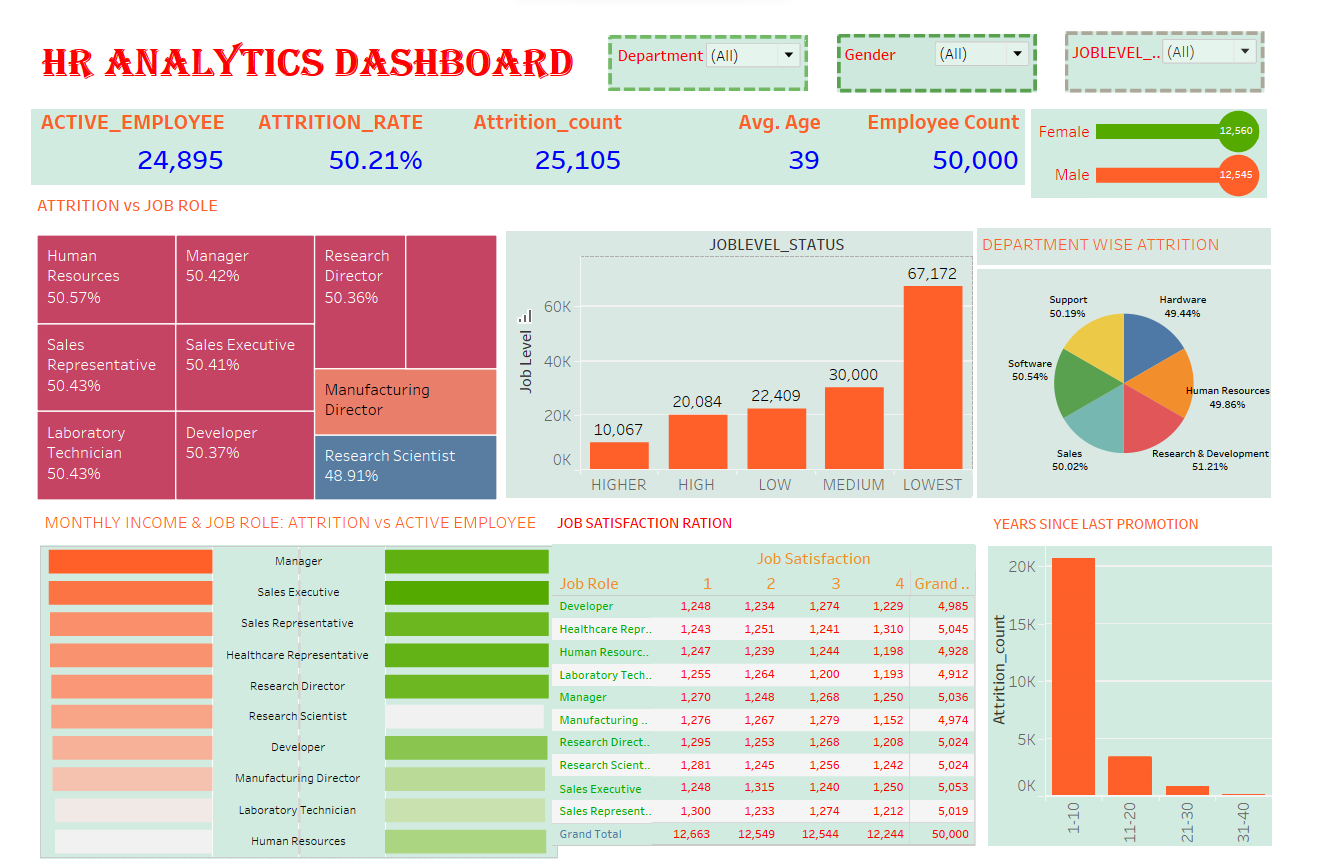

This screenshot's page, from the dashboard's own definition file:
{"tool":"powerbi","page":{"name":"1","canvas":[1280,720],"ordinal":0},"visuals":[{"type":"tableEx","title":"TOTAL EMPLOYEES","fields":{"Values":["HR1_Analyst.ATTRITION_RATE"]},"box":[466.3,108.5,232.2,102.5],"z":0,"group":"g1"},{"type":"clusteredColumnChart","title":"ACTIVE_EMPLOYEES and ATTRITION_COUNT by Department","fields":{"Category":["HR1_Analyst.Department"],"Y":["HR1_Analyst.ACTIVE_EMPLOYEES","HR1_Analyst.ATTRITION_COUNT"]},"box":[8.4,240,309.9,241.2],"z":0},{"type":"tableEx","title":"TOTAL EMPLOYEES","fields":{"Values":["HR1_Analyst.ACTIVE_EMPLOYEES"]},"box":[686.7,108.5,245.6,99.8],"z":1000,"group":"g1"},{"type":"clusteredBarChart","fields":{"Category":["HR1_Analyst.EducationField"],"Y":["HR1_Analyst.ACTIVE_EMPLOYEES"]},"box":[9.6,498.1,308.7,221.9],"z":1000},{"type":"tableEx","title":"TOTAL EMPLOYEES","fields":{"Values":["HR1_Analyst.ATTRITION_COUNT"]},"box":[241.4,108.5,228.1,99.8],"z":2000,"group":"g1"},{"type":"pivotTable","fields":{"Rows":["HR1_Analyst.JobRole"],"Columns":["HR1_Analyst.JobSatisfaction"],"Values":["HR1_Analyst.ACTIVE_EMPLOYEES"]},"box":[944.3,498.1,335.3,221.9],"z":2000},{"type":"tableEx","title":"TOTAL EMPLOYEES","fields":{"Values":["HR1_Analyst.AVERAGE_AGE"]},"box":[932.3,108.5,193,99.8],"z":3000,"group":"g1"},{"type":"donutChart","title":"PerformanceRating by Department","fields":{"Category":["HR1_Analyst.Department"],"Y":["Avg(HR2_Analyst.PerformanceRating)"]},"box":[671.8,498.1,259.3,221.9],"z":3000},{"type":"tableEx","title":"TOTAL EMPLOYEES","fields":{"Values":["HR1_Analyst.EmployeeCount"]},"box":[13.3,108.5,228.1,99.8],"z":4000,"group":"g1"},{"type":"donutChart","fields":{"Category":["HR1_Analyst.Education"],"Y":["HR1_Analyst.ACTIVE_EMPLOYEES"]},"box":[998.6,240,281,241.2],"z":4000},{"type":"columnChart","title":"JOB ROLE vs WORK LIFE BALANCE","fields":{"Category":["HR1_Analyst.JobRole"],"Y":["Avg(HR2_Analyst.WorkLifeBalance)"]},"box":[624.7,240,363,241.2],"z":5000},{"type":"lineClusteredColumnComboChart","title":"Average working years for each Department","fields":{"Category":["HR1_Analyst.Department"],"Y2":["Avg(HR2_Analyst.TotalWorkingYears)"]},"box":[330.5,498.1,328,221.9],"z":6000},{"type":"stackedAreaChart","title":"ATTRITION RATE vs LAST YEARS PROMOTION","fields":{"Category":["HR1_Analyst.Department"],"Y":["Avg(HR2_Analyst.YearsSinceLastPromotion)","HR1_Analyst.ATTRI_RATE"]},"box":[334.1,240,278.6,241.2],"z":7000},{"type":"slicer","fields":{"Values":["HR1_Analyst.Gender"]},"box":[833.4,19.3,267.7,59.1],"z":8000},{"type":"slicer","fields":{"Values":["HR1_Analyst.MaritalStatus"]},"box":[1112,13.3,167.6,215.9],"z":9000},{"type":"textbox","box":[100.1,13.3,733.3,68.7],"z":10000},{"type":"group","id":"g1","title":"Group 1","box":[13.3,108.5,1112,102.5],"z":11000}]}

Visuals, with their boxes on the page's 1280x720 design canvas (x1, y1, x2, y2). These are canvas units, not pixel positions in the 1324x868 screenshot, which may show the page scaled, cropped or inside an application window:
"TOTAL EMPLOYEES" tableEx: region(466, 108, 698, 211)
"ACTIVE_EMPLOYEES and ATTRITION_COUNT by Department" clusteredColumnChart: region(8, 240, 318, 481)
"TOTAL EMPLOYEES" tableEx: region(687, 108, 932, 208)
clusteredBarChart - HR1_Analyst.EducationField x HR1_Analyst.ACTIVE_EMPLOYEES: region(10, 498, 318, 720)
"TOTAL EMPLOYEES" tableEx: region(241, 108, 470, 208)
pivotTable - HR1_Analyst.JobRole x HR1_Analyst.JobSatisfaction: region(944, 498, 1280, 720)
"TOTAL EMPLOYEES" tableEx: region(932, 108, 1125, 208)
"PerformanceRating by Department" donutChart: region(672, 498, 931, 720)
"TOTAL EMPLOYEES" tableEx: region(13, 108, 241, 208)
donutChart - HR1_Analyst.Education x HR1_Analyst.ACTIVE_EMPLOYEES: region(999, 240, 1280, 481)
"JOB ROLE vs WORK LIFE BALANCE" columnChart: region(625, 240, 988, 481)
"Average working years for each Department" lineClusteredColumnComboChart: region(330, 498, 658, 720)
"ATTRITION RATE vs LAST YEARS PROMOTION" stackedAreaChart: region(334, 240, 613, 481)
slicer - HR1_Analyst.Gender: region(833, 19, 1101, 78)
slicer - HR1_Analyst.MaritalStatus: region(1112, 13, 1280, 229)
textbox: region(100, 13, 833, 82)
"Group 1" group: region(13, 108, 1125, 211)
